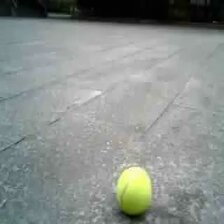tennis: (117, 168, 153, 212)
